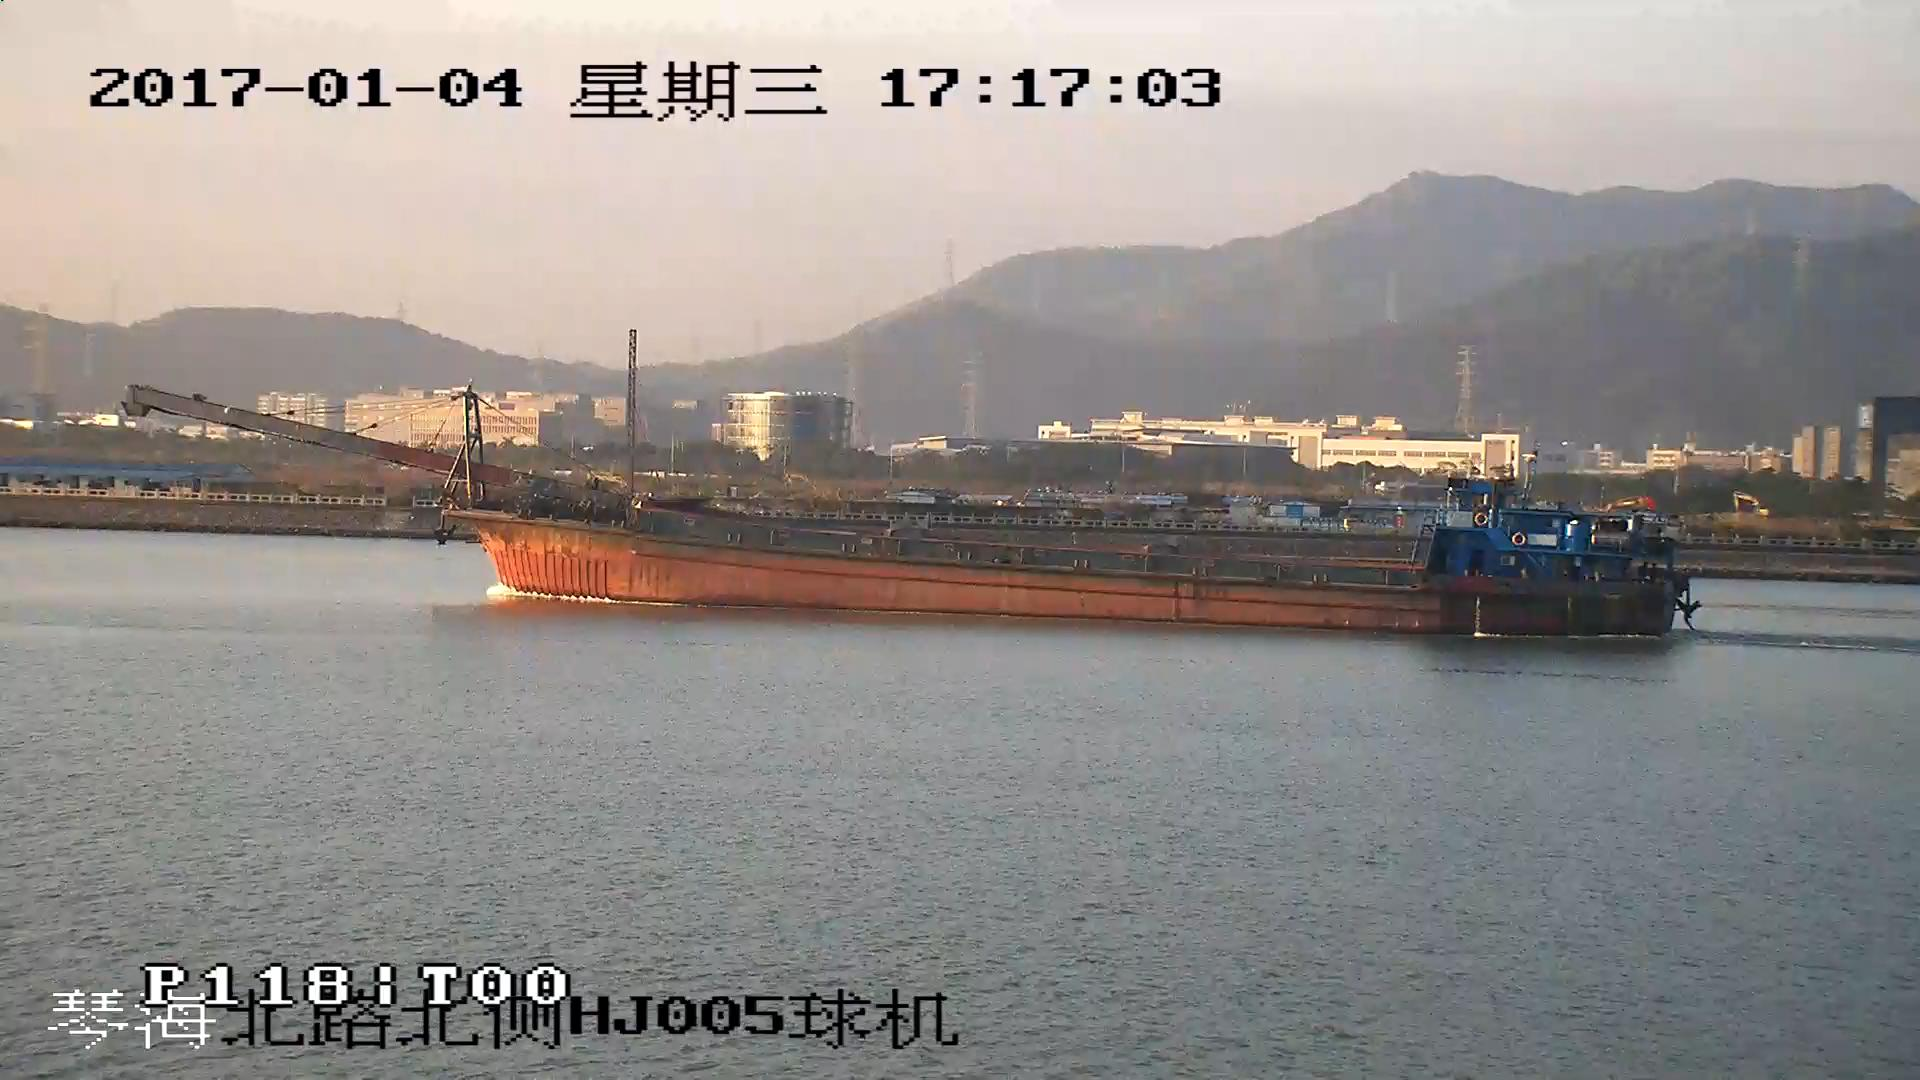bulk cargo carrier: (126, 380, 1694, 638)
